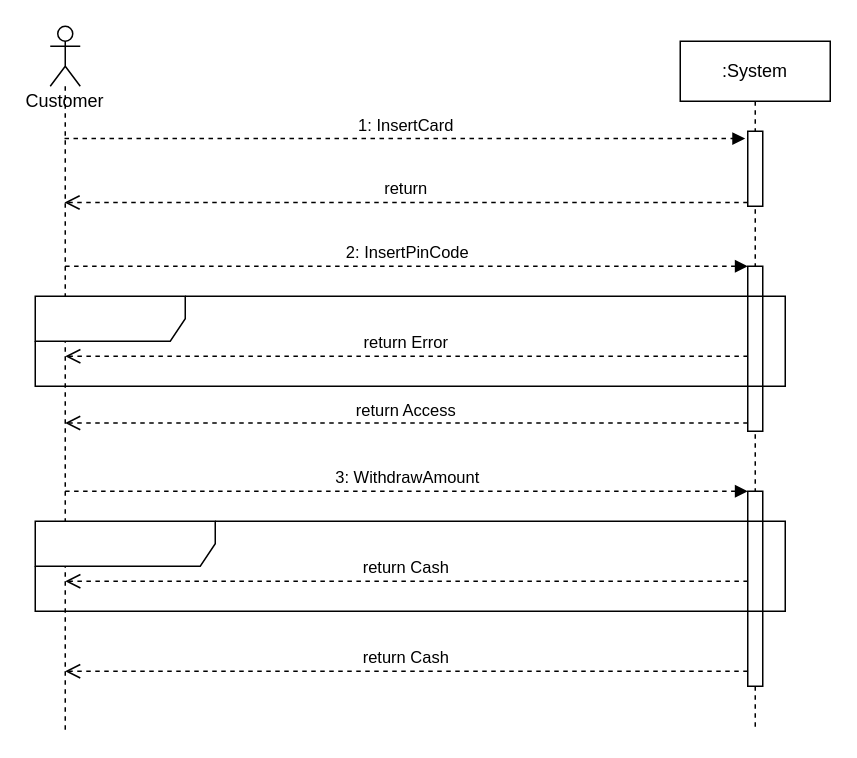
Some shapes in this 857 by 758 pixel diagram are drawn without their labels. The shapes that lost their labels are listed below. From the top down, each one's box as (x1, y1, x2, y2) in pixels, then its label:
(34, 295, 785, 386): if wrong pincode
(34, 520, 785, 611): if too high amount
